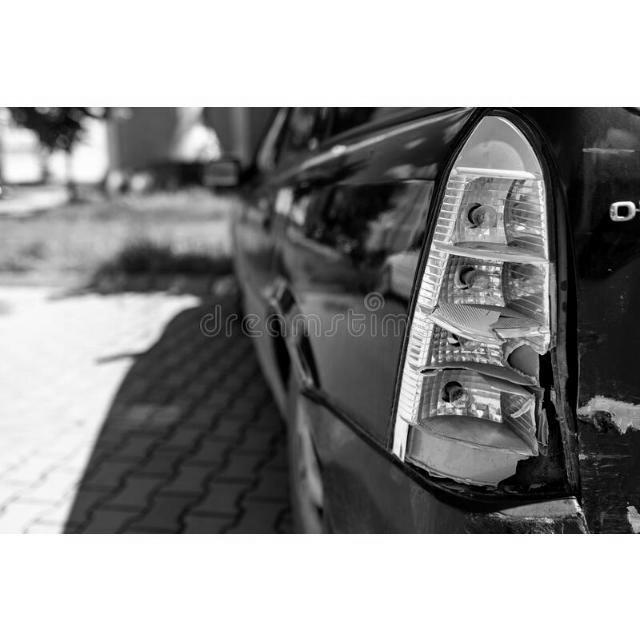Taillight-Damage: (345, 110, 592, 531)
